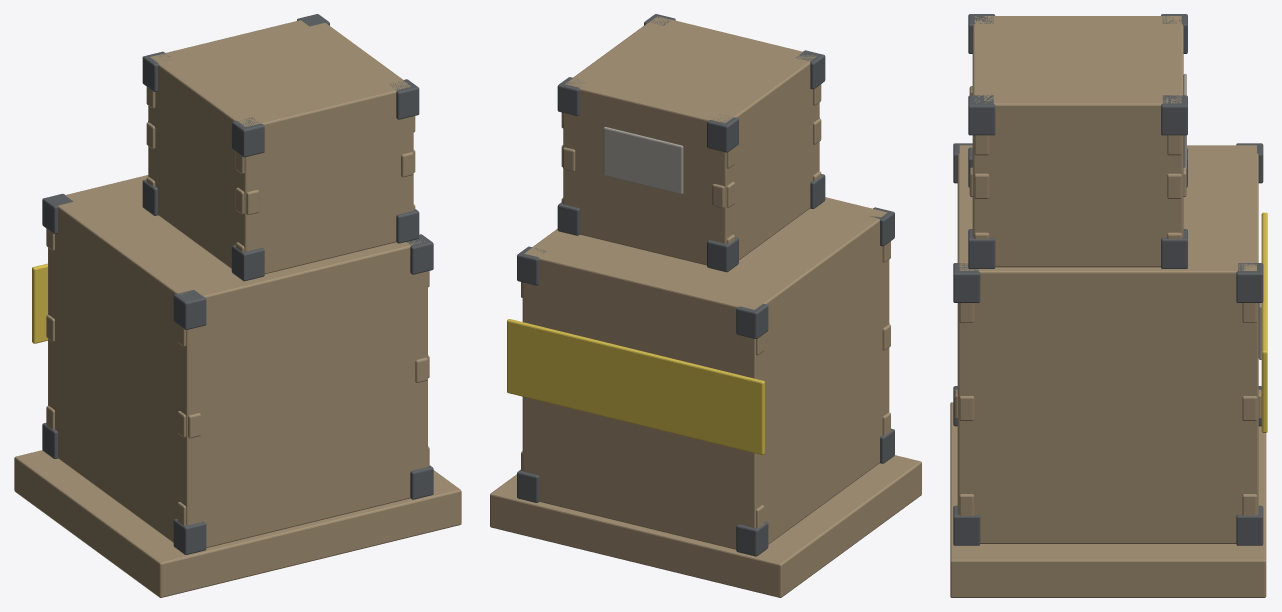
The model's file is crate_stack.fbx.
3 renders of one model, left to right at view 1: azimuth 30°, elevation 25°; view 2: azimuth 150°, elevation 25°; view 3: azimuth 270°, elevation 25°, orthographic. The views are drawn at different scales.
Visible parts, largest first — view 1: crate_stack; view 2: crate_stack; view 3: crate_stack.
Boxes of the visible parts, bbox=[...] form: crate_stack: bbox=[14, 14, 461, 597]; crate_stack: bbox=[490, 14, 921, 597]; crate_stack: bbox=[950, 14, 1267, 597].
Bounding box in the file's own units: 1.25 × 1.74 × 1.05.
